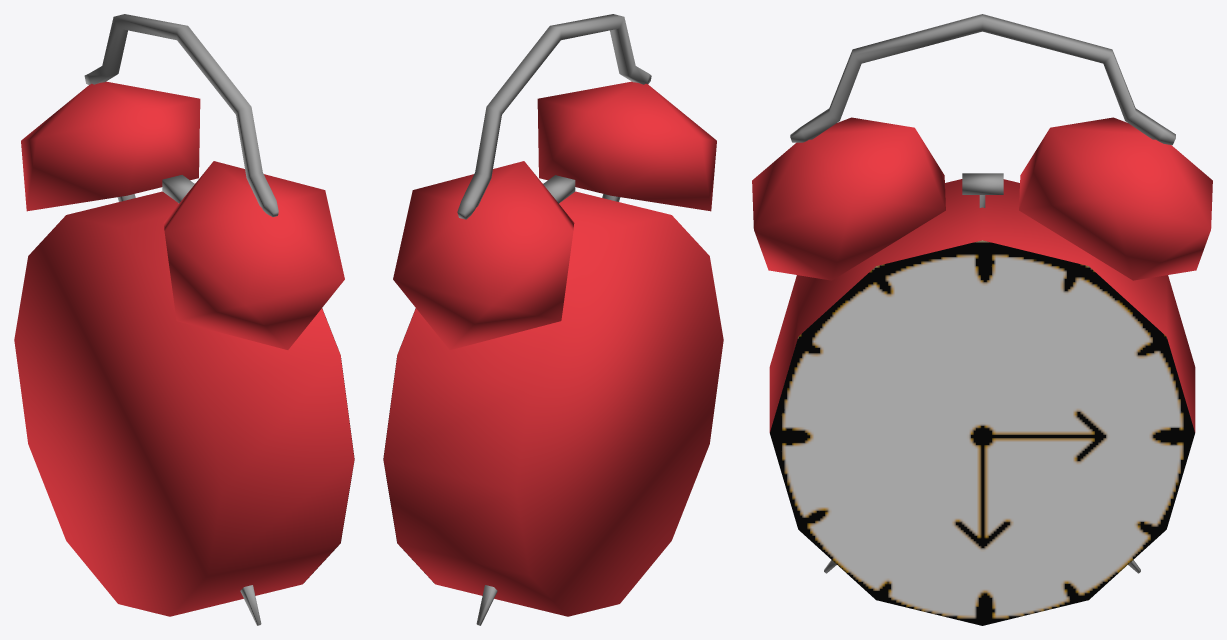
Rendered from alarm_clock.glb.
3 renders of one model, left to right at view 1: azimuth 30°, elevation 25°; view 2: azimuth 150°, elevation 25°; view 3: azimuth 270°, elevation 25°, orthographic. The views are drawn at different scales.
Visible parts, largest first — view 1: alarm; view 2: alarm; view 3: alarm.002, alarm.
Boxes of the visible parts, bbox=[...] form: alarm: bbox=[14, 14, 354, 625]; alarm: bbox=[383, 14, 723, 625]; alarm.002: bbox=[770, 240, 1194, 625]; alarm: bbox=[752, 14, 1212, 573].
Size of the model in its own units: 0.272 by 0.8947 by 0.65.
3 materials, 1 textured.
